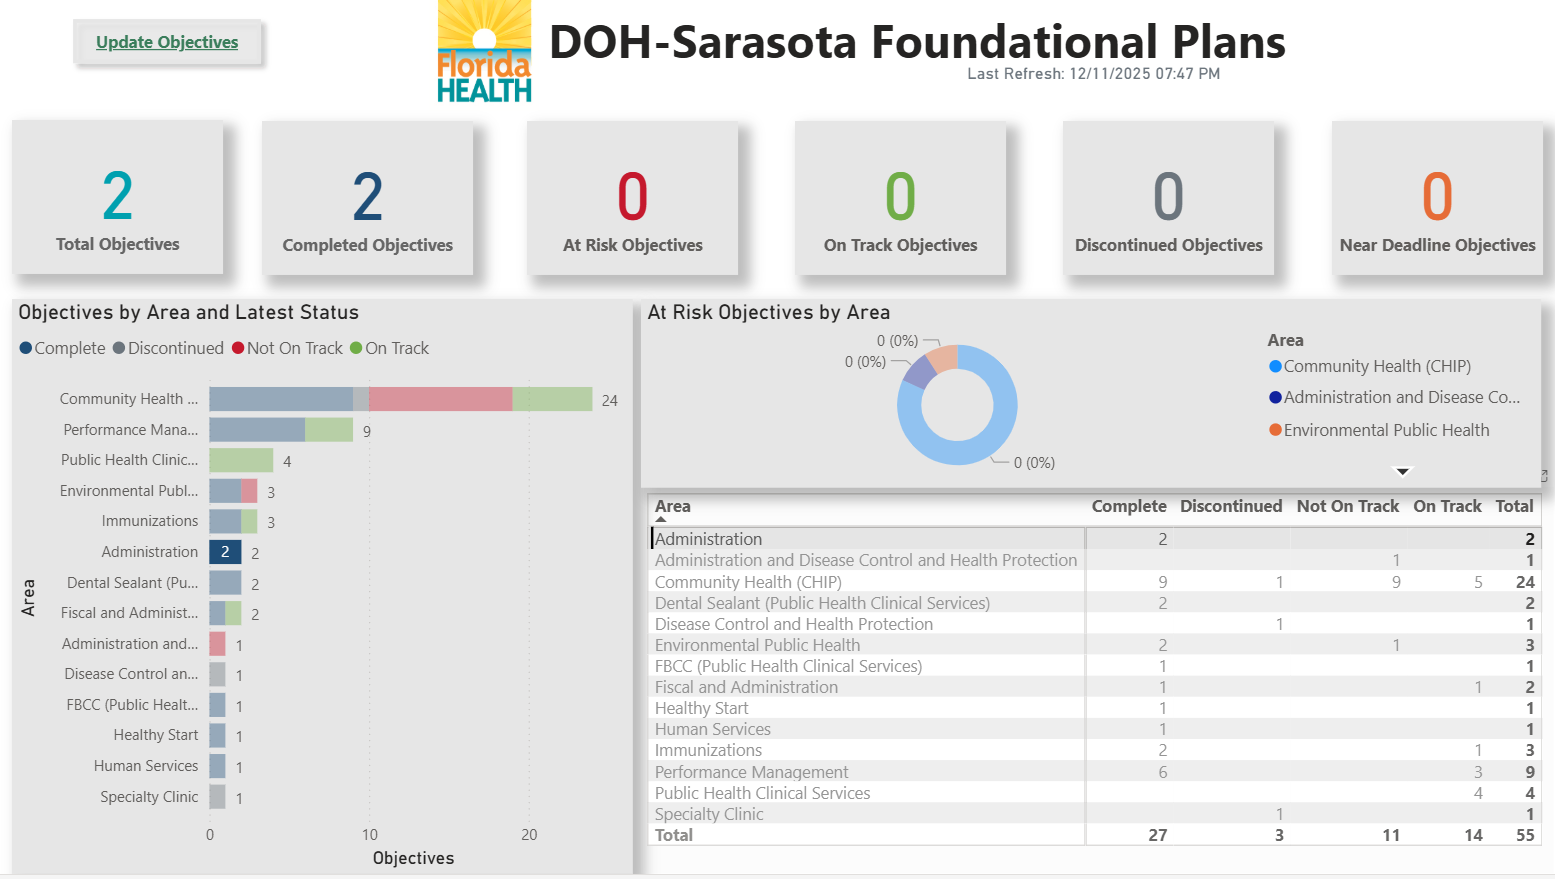

The page's visual inventory and layout, read from the dashboard file:
{"tool":"powerbi","page":{"name":"Page 1","canvas":[1280,720],"ordinal":0},"visuals":[{"type":"card","fields":{"Values":["Area Mapping.Total Objectives"]},"box":[9.7,112.8,170,124.5],"z":0},{"type":"card","fields":{"Values":["Unified data.Completed Objectives"]},"box":[211.1,113.8,170.2,124],"z":1000},{"type":"card","fields":{"Values":["Unified data.At Risk Objectives"]},"box":[424.1,113.8,170.2,124],"z":2000},{"type":"card","fields":{"Values":["Unified data.On Track Objectives"]},"box":[640,113.8,170,124],"z":3000},{"type":"card","fields":{"Values":["Unified data.Discontinued Objectives"]},"box":[855.9,113.8,170,124],"z":4000},{"type":"textbox","box":[10,570,280,150],"z":5000},{"type":"card","fields":{"Values":["Unified data.Near Deadline Objectives"]},"box":[1072.8,113.8,170,124],"z":6000},{"type":"barChart","fields":{"Category":["Unified data.Area"],"Y":["CountNonNull(Unified data.Objectives)"],"Series":["Unified data.Latest Status.1"]},"box":[9.7,256.8,499.9,463],"z":7000},{"type":"pivotTable","fields":{"Rows":["Unified data.Area"],"Columns":["Unified data.Latest Status.1"],"Values":["CountNonNull(Unified data.Objectives)"]},"box":[516.5,408.5,735.3,311.2],"z":8000},{"type":"donutChart","fields":{"Y":["Unified data.At Risk Objectives (Not On Track Status)"],"Category":["Unified data.Area"]},"box":[516.5,256.8,724.6,151.7],"z":9000},{"type":"image","box":[332.6,0,114.8,109.9],"z":10000},{"type":"textbox","box":[436.7,1,711,120.6],"z":11000},{"type":"card","fields":{"Values":["Unified data.Last Refresh"]},"box":[731.4,62.2,299.6,26.3],"z":12000},{"type":"actionButton","box":[49.6,22.4,169.2,53.5],"z":13000}]}

Visuals, with their boxes in screenshot pixels (x1, y1, x2, y2), scaled from the page's 1280x720 canvas onto the 1555x879 screenshot:
card - Area Mapping.Total Objectives: bbox=(12, 138, 218, 290)
card - Unified data.Completed Objectives: bbox=(256, 139, 463, 290)
card - Unified data.At Risk Objectives: bbox=(515, 139, 722, 290)
card - Unified data.On Track Objectives: bbox=(778, 139, 984, 290)
card - Unified data.Discontinued Objectives: bbox=(1040, 139, 1246, 290)
textbox: bbox=(12, 696, 352, 878)
card - Unified data.Near Deadline Objectives: bbox=(1303, 139, 1510, 290)
barChart - Unified data.Area x CountNonNull(Unified data.Objectives): bbox=(12, 314, 619, 878)
pivotTable - Unified data.Area x Unified data.Latest Status.1: bbox=(627, 499, 1521, 878)
donutChart - Unified data.At Risk Objectives (Not On Track Status) x Unified data.Area: bbox=(627, 314, 1508, 499)
image: bbox=(404, 0, 544, 134)
textbox: bbox=(531, 1, 1394, 148)
card - Unified data.Last Refresh: bbox=(889, 76, 1253, 108)
actionButton: bbox=(60, 27, 266, 93)
